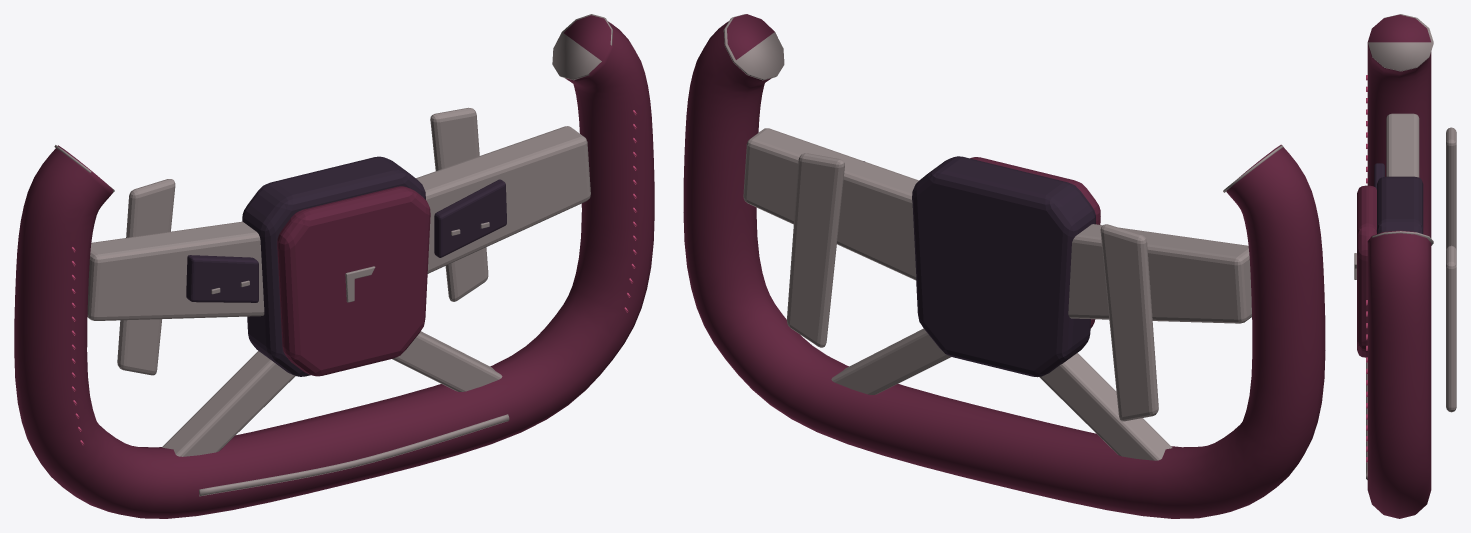
The model's file is steering-yoke.glb.
3 views of the same model, side by side, from view 1: azimuth 30°, elevation 25°; view 2: azimuth 150°, elevation 25°; view 3: azimuth 270°, elevation 25° (orthographic). The views are drawn at different scales.
Visible parts, largest first — view 1: steering_yoke_leather, steering_yoke_metal, steering_yoke_hub; view 2: steering_yoke_leather, steering_yoke_metal, steering_yoke_hub; view 3: steering_yoke_leather, steering_yoke_metal, steering_yoke_hub, steering_yoke_thread.
Part boxes in pixels (x1,y1,x2,y2): steering_yoke_leather: [14, 15, 654, 518]; steering_yoke_metal: [54, 14, 612, 496]; steering_yoke_hub: [186, 156, 506, 376]; steering_yoke_leather: [683, 14, 1325, 518]; steering_yoke_metal: [723, 14, 1283, 460]; steering_yoke_hub: [864, 156, 1095, 377]; steering_yoke_leather: [1357, 14, 1431, 518]; steering_yoke_metal: [1354, 14, 1456, 479]; steering_yoke_hub: [1374, 163, 1423, 233]; steering_yoke_thread: [1366, 75, 1367, 462].
Bounding box in the file's own units: 0.4486 × 0.2711 × 0.077.
